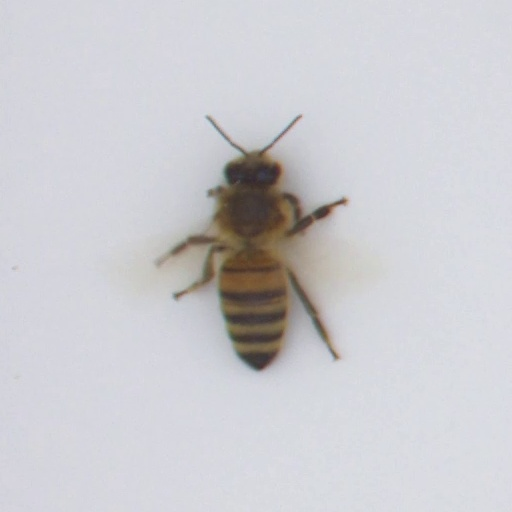Bee: (224, 154, 287, 363)
Thorax: (210, 183, 284, 246)
